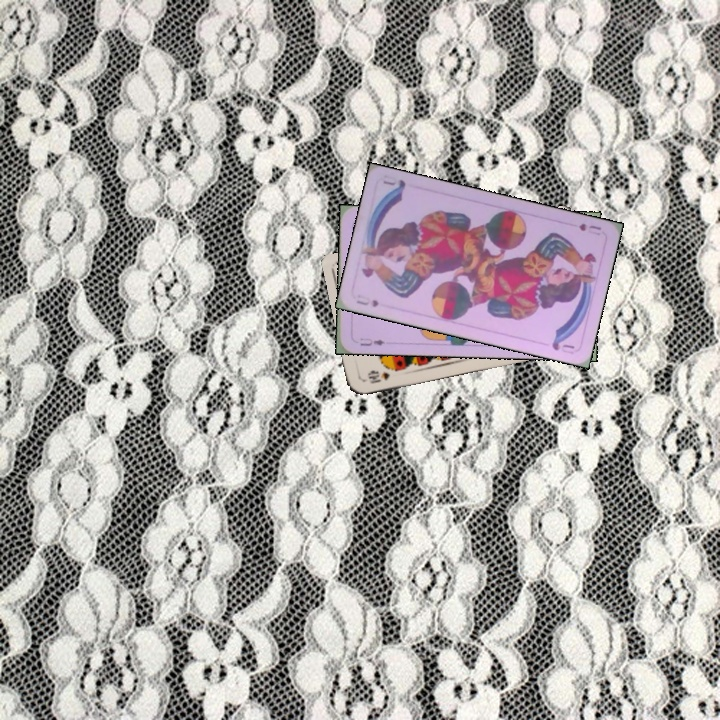EU: (356, 334, 387, 348)
S10: (360, 367, 392, 386)
SU: (352, 291, 381, 310), (575, 219, 604, 238)
